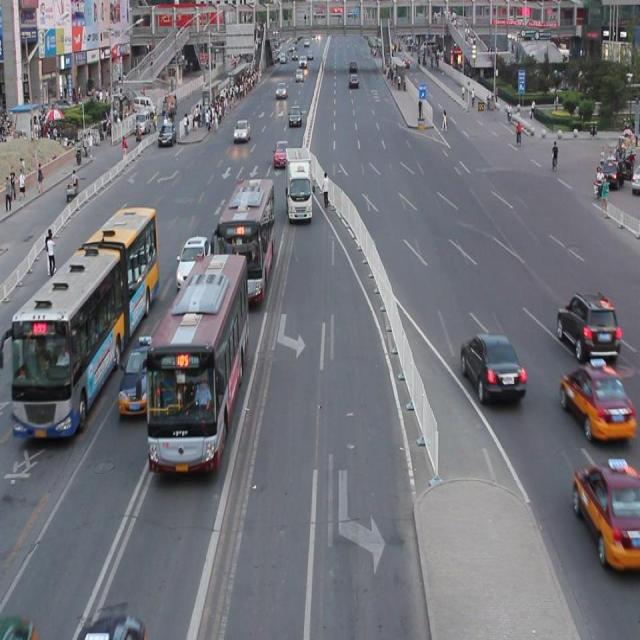bus: (284, 148, 313, 219)
car: (571, 454, 640, 570), (557, 358, 640, 438), (458, 332, 523, 402), (555, 291, 619, 362), (117, 336, 157, 415), (176, 235, 208, 286), (273, 139, 290, 166), (233, 120, 250, 140)
van: (0, 206, 158, 440), (143, 251, 249, 474), (215, 178, 276, 303)
